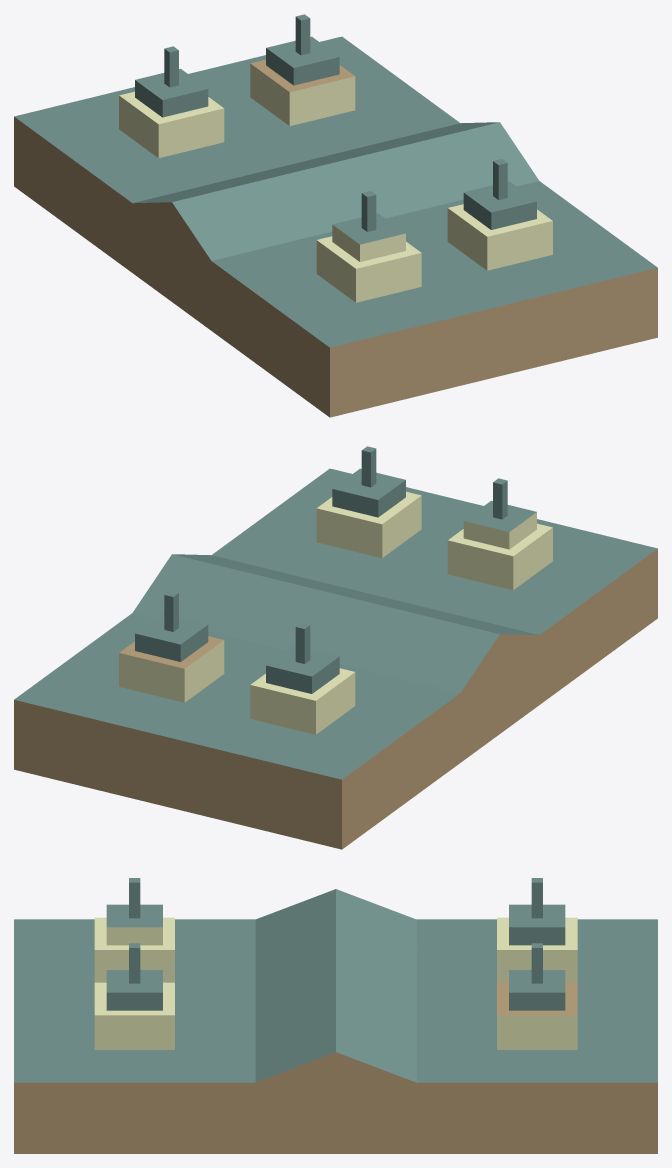
Rendered from Pilar02.fbx.
3 views of the same model, one above another, from view 1: azimuth 30°, elevation 25°; view 2: azimuth 150°, elevation 25°; view 3: azimuth 270°, elevation 25° (orthographic).
Visible parts, largest first — view 1: Cube.114; view 2: Cube.114; view 3: Cube.114.
Boxes of the visible parts, x1,y1,x2,y2 form: Cube.114: (14,14,657,417); Cube.114: (14,446,657,849); Cube.114: (14,878,657,1153).
Bounding box in the file's own units: 982 × 447 × 1638.
